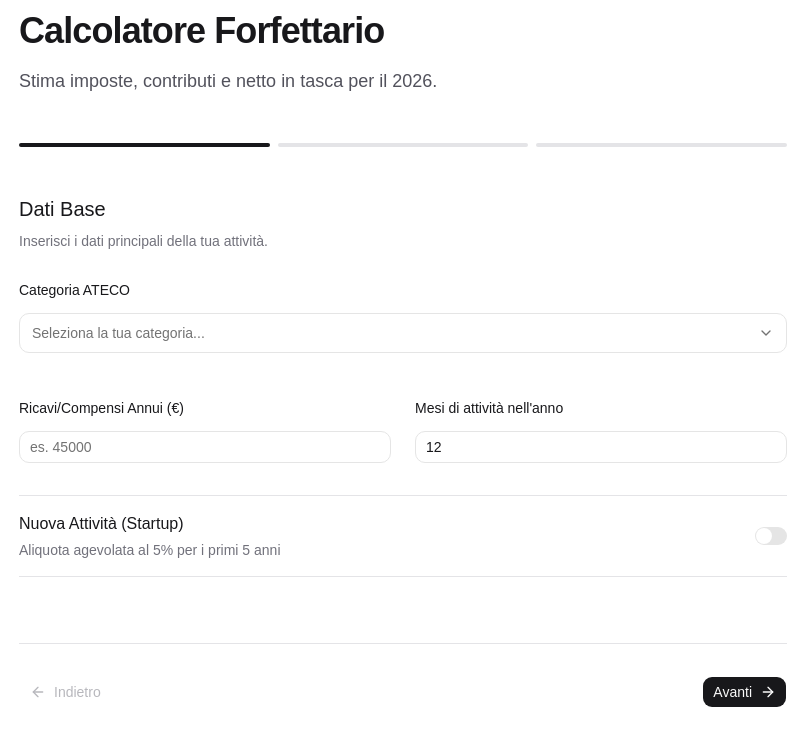
Scenario: Calculator page › shows the fiscal assumption version next to the results
Click the dropdown named "categoria ateco": (118, 333) [19, 313, 787, 353]
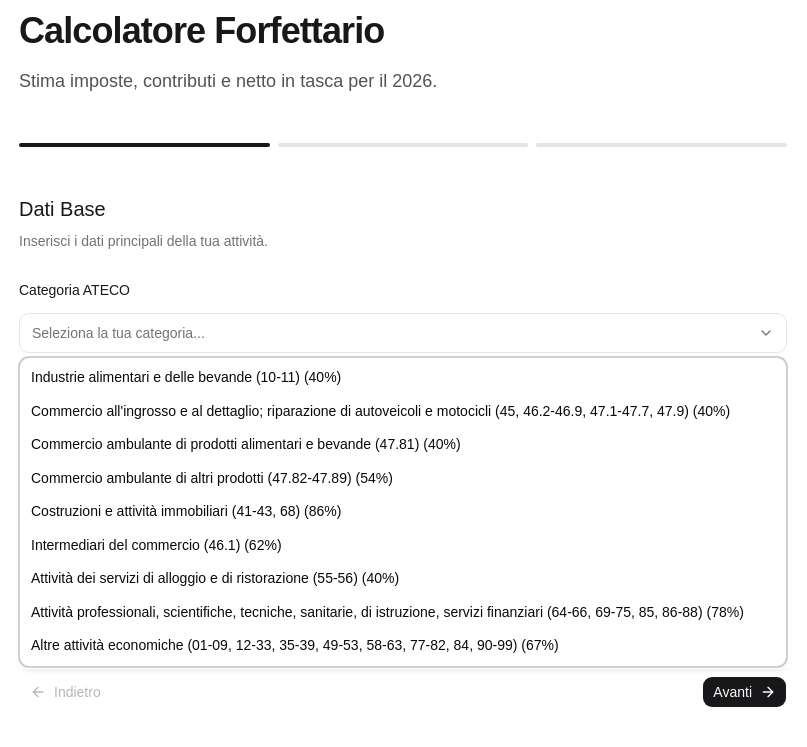
Click the option "Attività professionali": (387, 612) [31, 604, 744, 620]
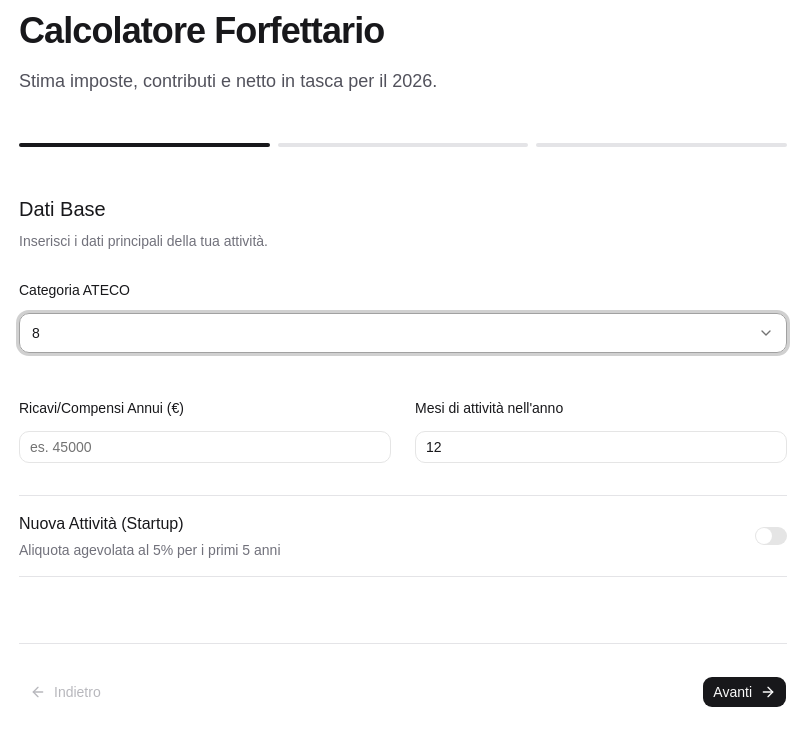
Click the button "Avanti": (745, 692) [702, 676, 787, 708]
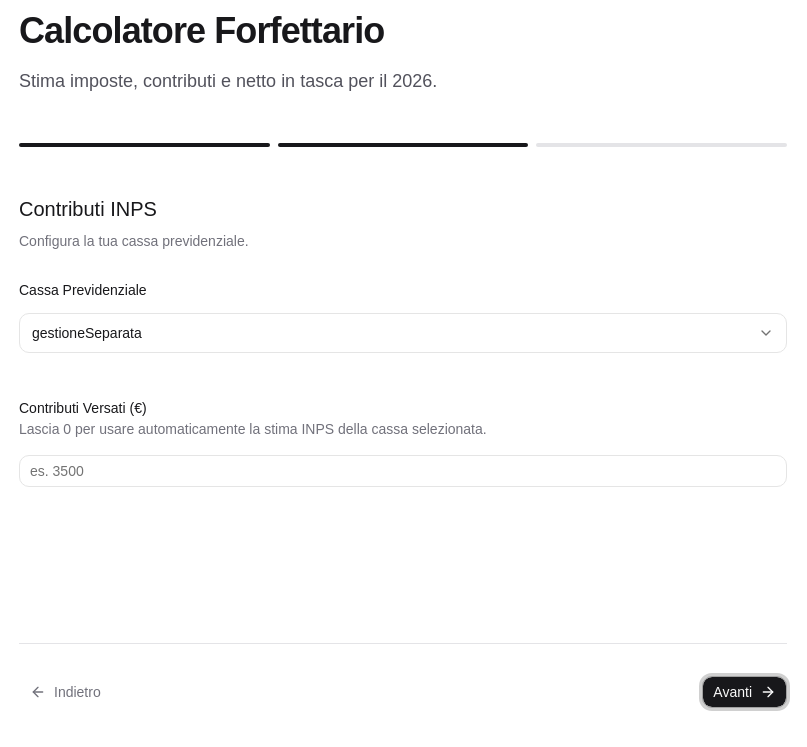
Click the button "Avanti": (745, 692) [702, 676, 787, 708]
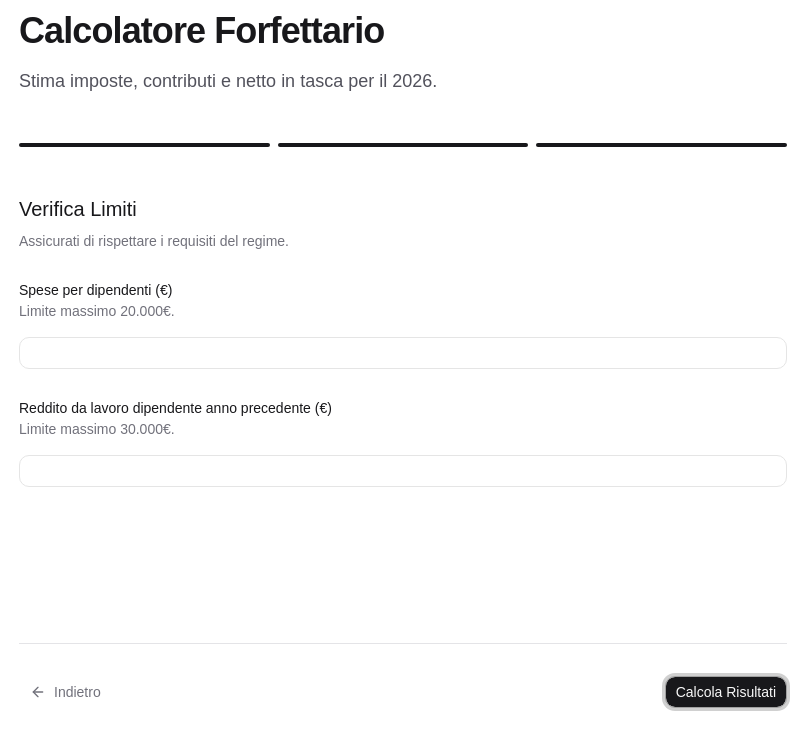
Click the button "Calcola Risultati": (726, 692) [665, 676, 787, 708]
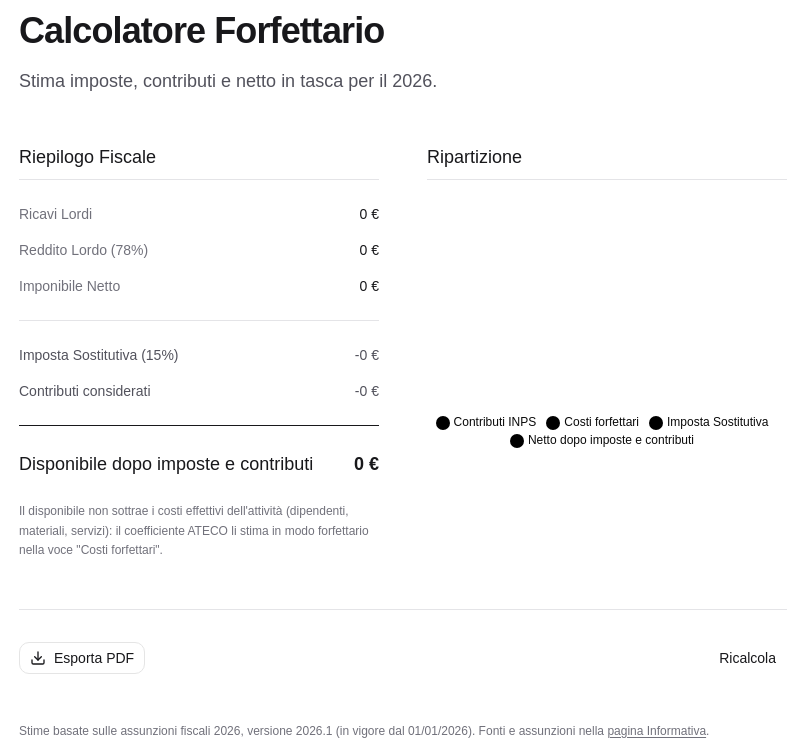
expect the element with test id "calculator-fiscal-profile-note" shows "assunzioni fiscali 2026, versione 2026.1": met, box [120, 724, 472, 738]
